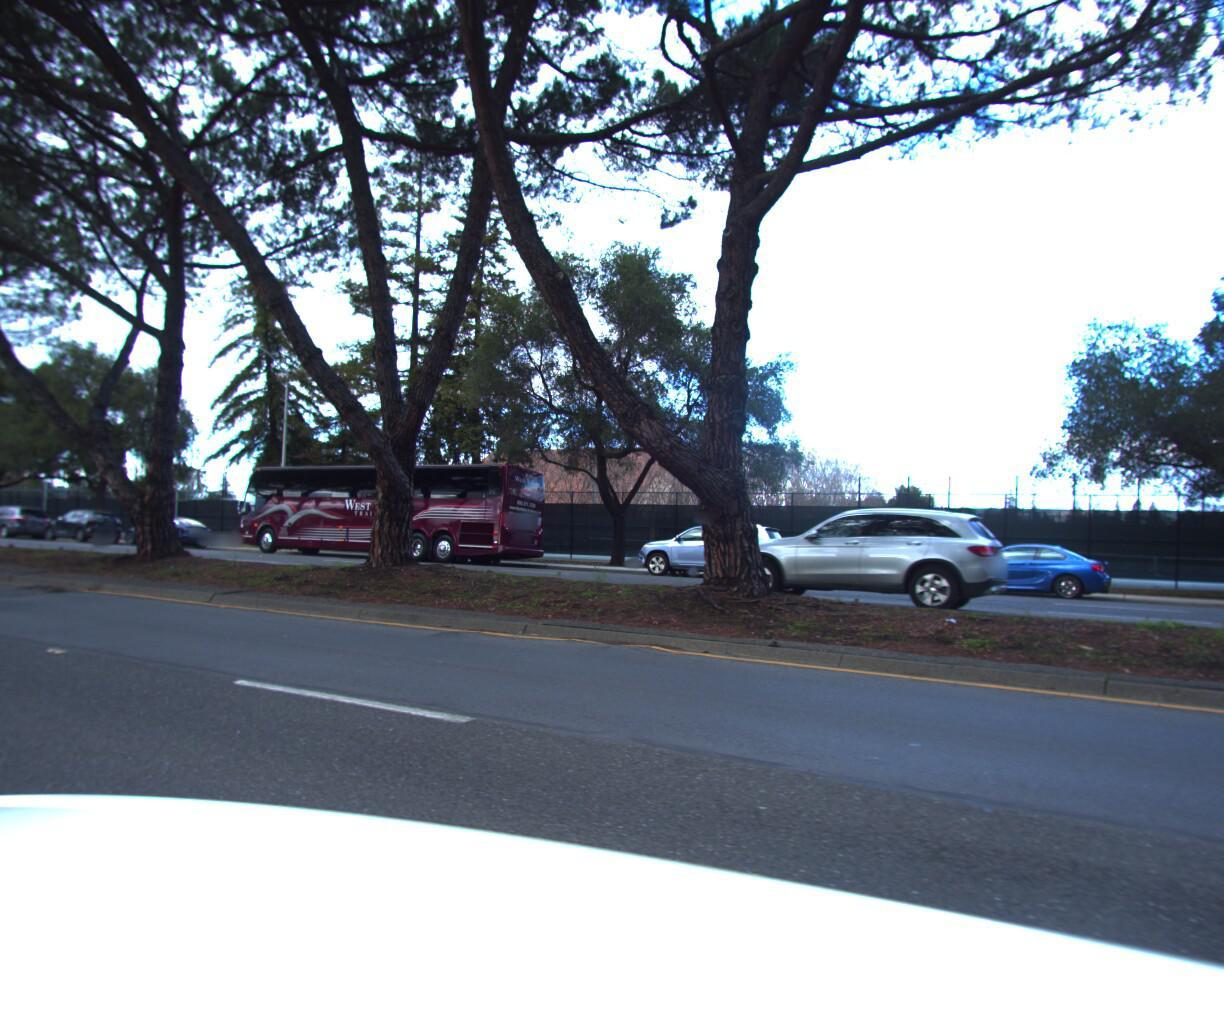bus: (224, 453, 556, 566)
car: (709, 501, 1027, 618), (915, 534, 1117, 606), (625, 515, 797, 580), (114, 510, 215, 548), (33, 503, 124, 539)
